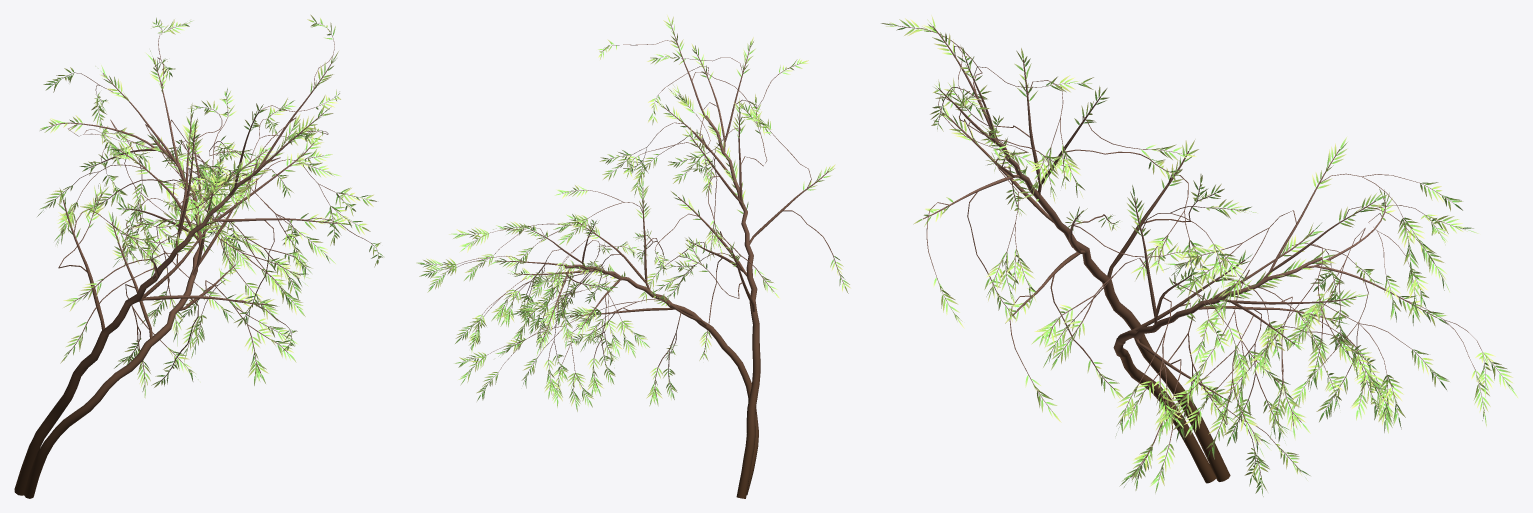
File: Branch3.fbx
3 renders of one model, left to right at view 1: azimuth 30°, elevation 25°; view 2: azimuth 150°, elevation 25°; view 3: azimuth 270°, elevation 25°, orthographic. The views are drawn at different scales.
Parts seen in each view (by area): view 1: BranchLeaf3, Branch3; view 2: BranchLeaf3, Branch3; view 3: BranchLeaf3, Branch3.
Part boxes in pixels (<box>): BranchLeaf3: <box>37,14,384,398</box>; Branch3: <box>14,22,378,498</box>; BranchLeaf3: <box>416,15,850,411</box>; Branch3: <box>426,23,844,498</box>; BranchLeaf3: <box>881,15,1518,496</box>; Branch3: <box>894,25,1509,486</box>.
Bounding box in the file's own units: 2.94 × 3.33 × 3.51.
